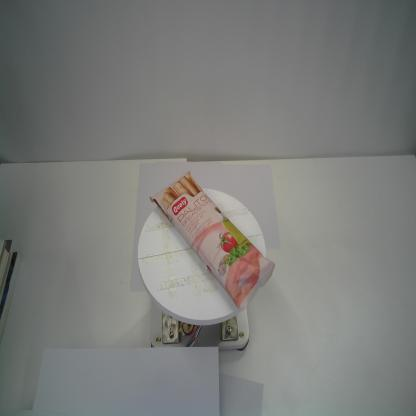Dessert: (149, 168, 276, 314)
